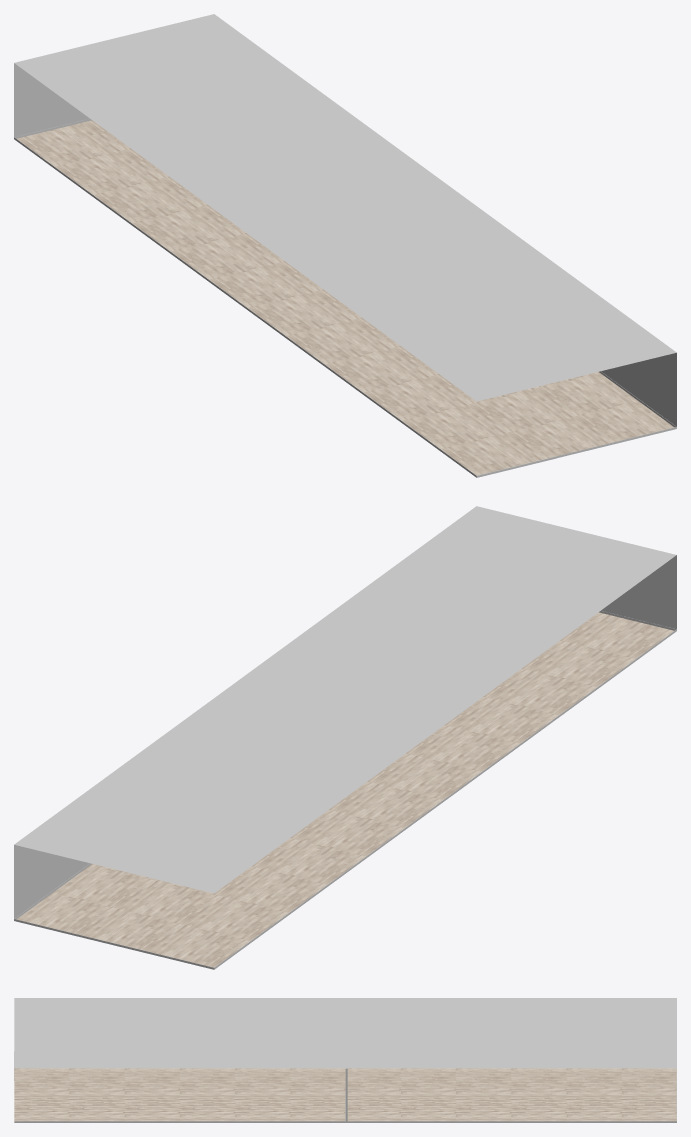
File: room.glb
3 renders of one model, top to bottom at view 1: azimuth 30°, elevation 25°; view 2: azimuth 150°, elevation 25°; view 3: azimuth 270°, elevation 25°, orthographic. The views are drawn at different scales.
Visible parts, largest first — view 1: Cube, Floor, Room, Baseboard; view 2: Cube, Floor, Room, Baseboard; view 3: Cube, Floor, Baseboard.
Part boxes in pixels (bbox=[...]): Cube: bbox=[14, 14, 676, 401]; Floor: bbox=[17, 120, 674, 475]; Room: bbox=[14, 63, 676, 426]; Baseboard: bbox=[14, 118, 676, 477]; Cube: bbox=[14, 506, 676, 893]; Floor: bbox=[17, 612, 673, 967]; Room: bbox=[14, 555, 676, 918]; Baseboard: bbox=[14, 611, 676, 969]; Cube: bbox=[14, 998, 676, 1068]; Floor: bbox=[14, 1068, 676, 1121]; Baseboard: bbox=[14, 1068, 676, 1122].
Bounding box in the file's own units: 12.5 × 4.55 × 50.01.
1 material, 1 textured.
